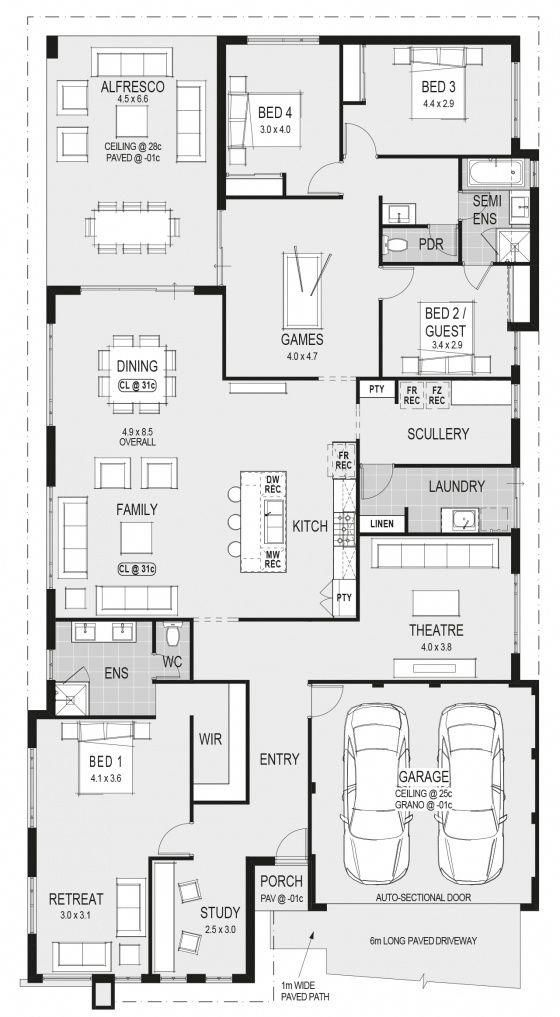door: (302, 159, 340, 194), (154, 820, 190, 855), (272, 826, 308, 861), (342, 121, 377, 155), (381, 265, 416, 299), (358, 466, 393, 500), (311, 683, 346, 717)
room: (45, 35, 226, 295), (221, 196, 382, 380), (354, 533, 520, 685), (26, 715, 192, 860), (337, 38, 520, 159), (215, 35, 342, 200), (378, 261, 519, 381), (148, 857, 255, 982)
